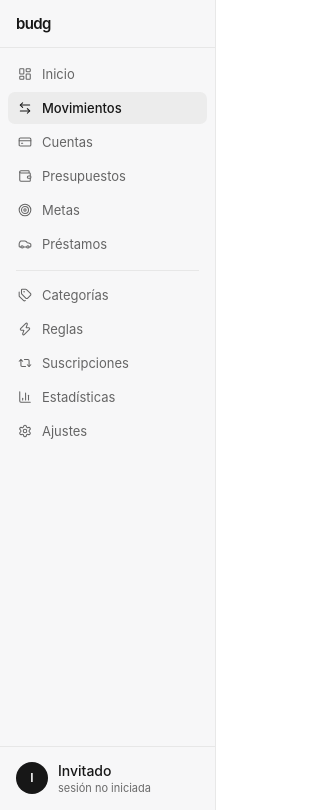
Scenario: Sidebar › offers guest account fallbacks when no session exists
The width and height of the screenshot is (320, 810).
Click the button "I Invitado sesión no iniciada". click: [108, 778]
box: [8,755,207,802]
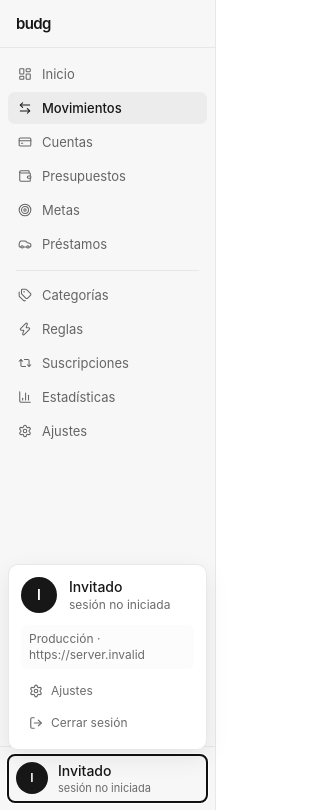
Expected: the text "Invitado" is shown 2 times, [69,578,122,595]; [58,762,112,779]
Expected: the text "sesión no iniciada" is shown 2 times, [69,597,170,612]; [58,781,151,795]
